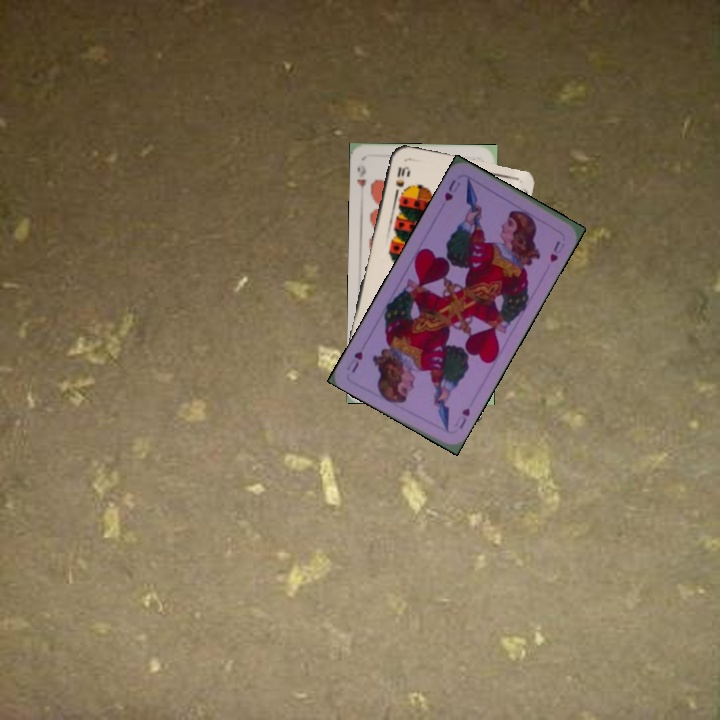H9: (353, 162, 369, 198)
HU: (440, 175, 463, 204), (450, 403, 473, 432)
S10: (391, 162, 410, 198)
